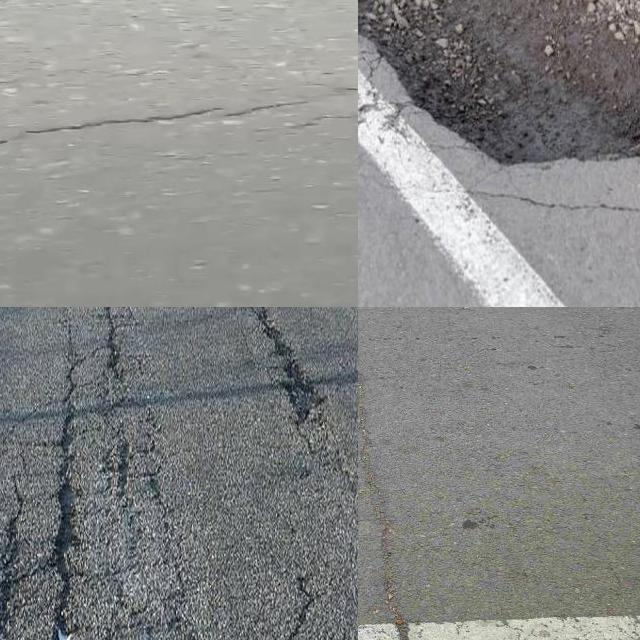Memanjang: (358, 307, 434, 640), (42, 330, 86, 640), (102, 307, 142, 376)
Pinggir: (358, 0, 640, 174)
